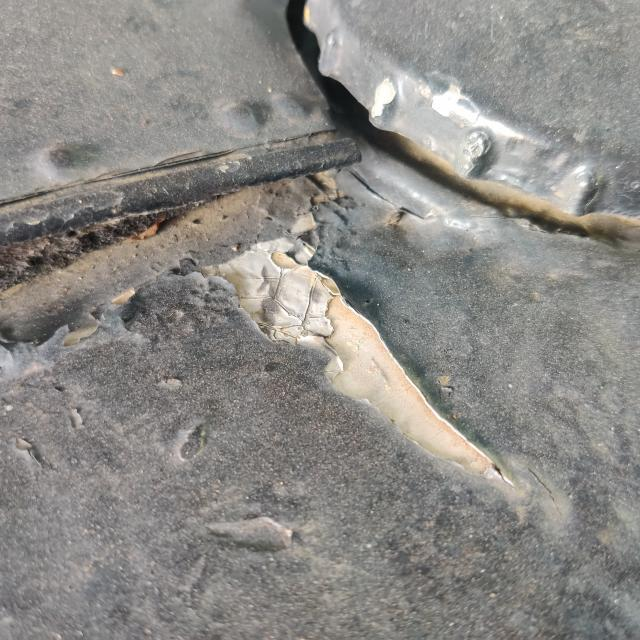paint-off: (199, 226, 536, 510)
